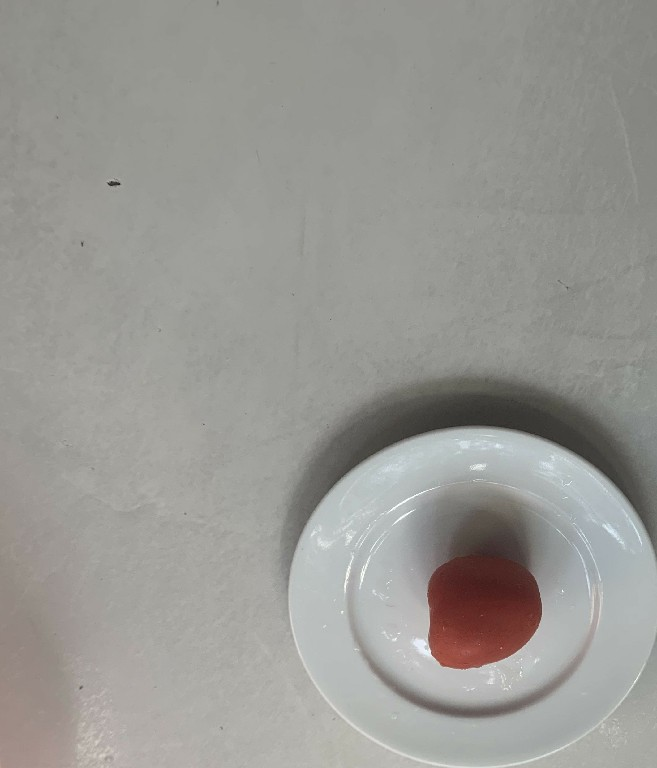OK: (426, 551, 540, 672)
